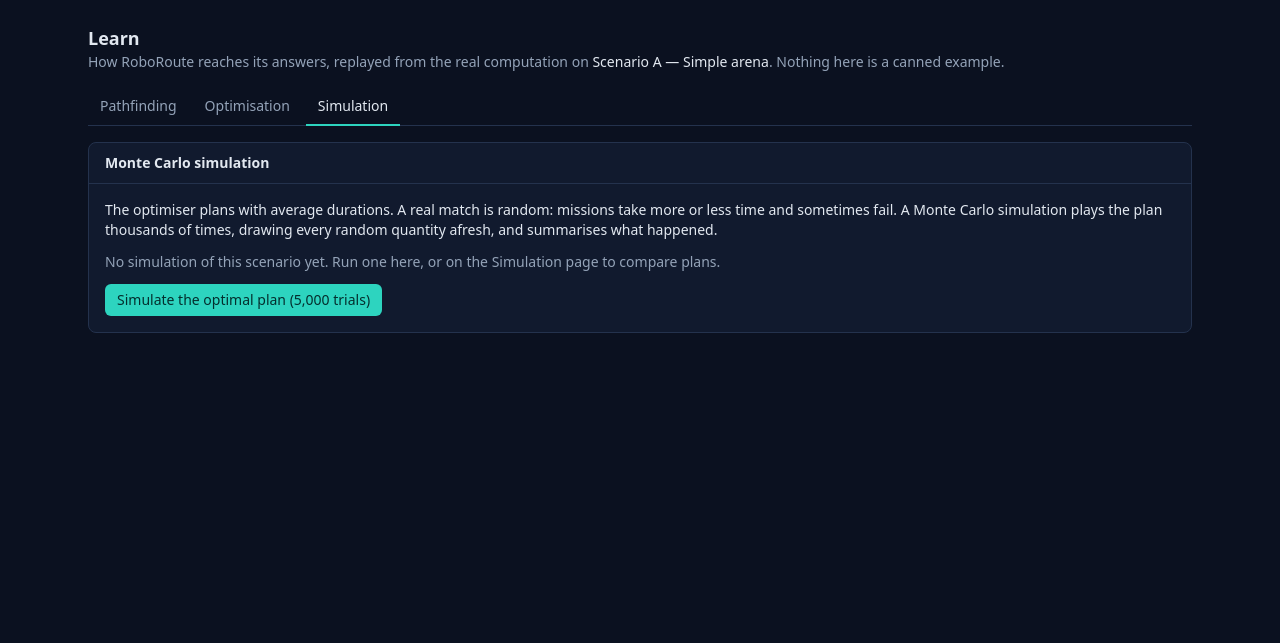
Test: LearnPage › can simulate the optimal plan itself without replacing the Simulation page's results
The image size is (1280, 643).
Click the button "Simulate the optimal plan (5,000 trials)".
click(244, 300)  # box [105,284,382,316]
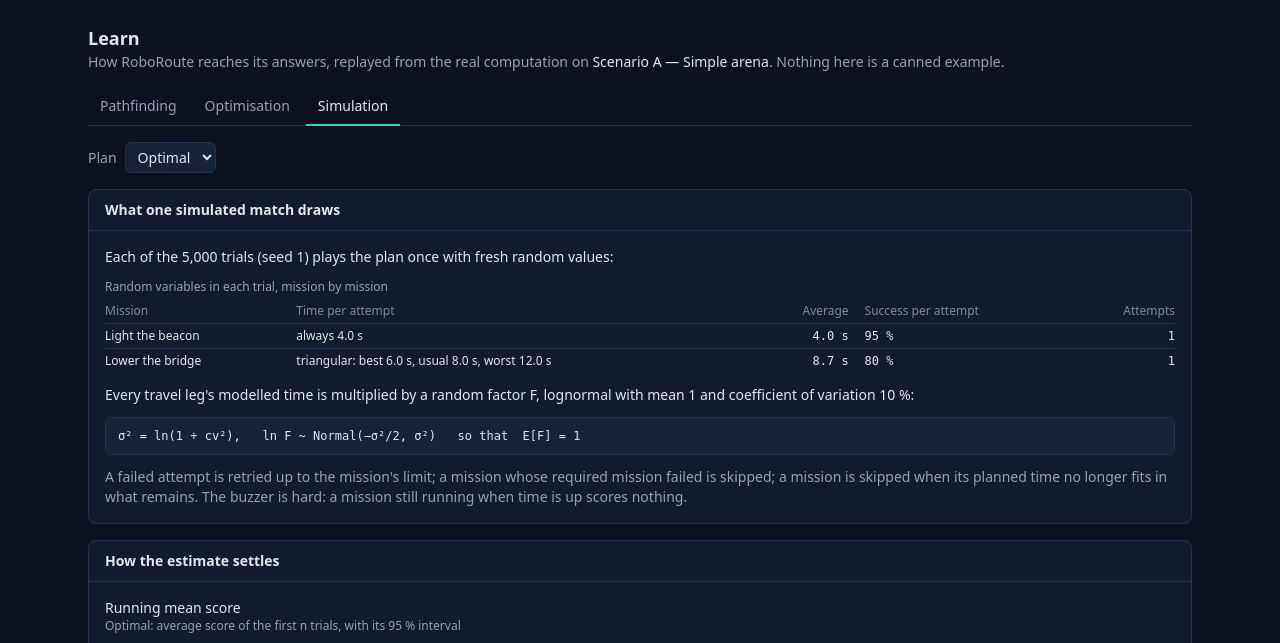
Result: the text "Running mean score" is shown at [105,598,241,617]
